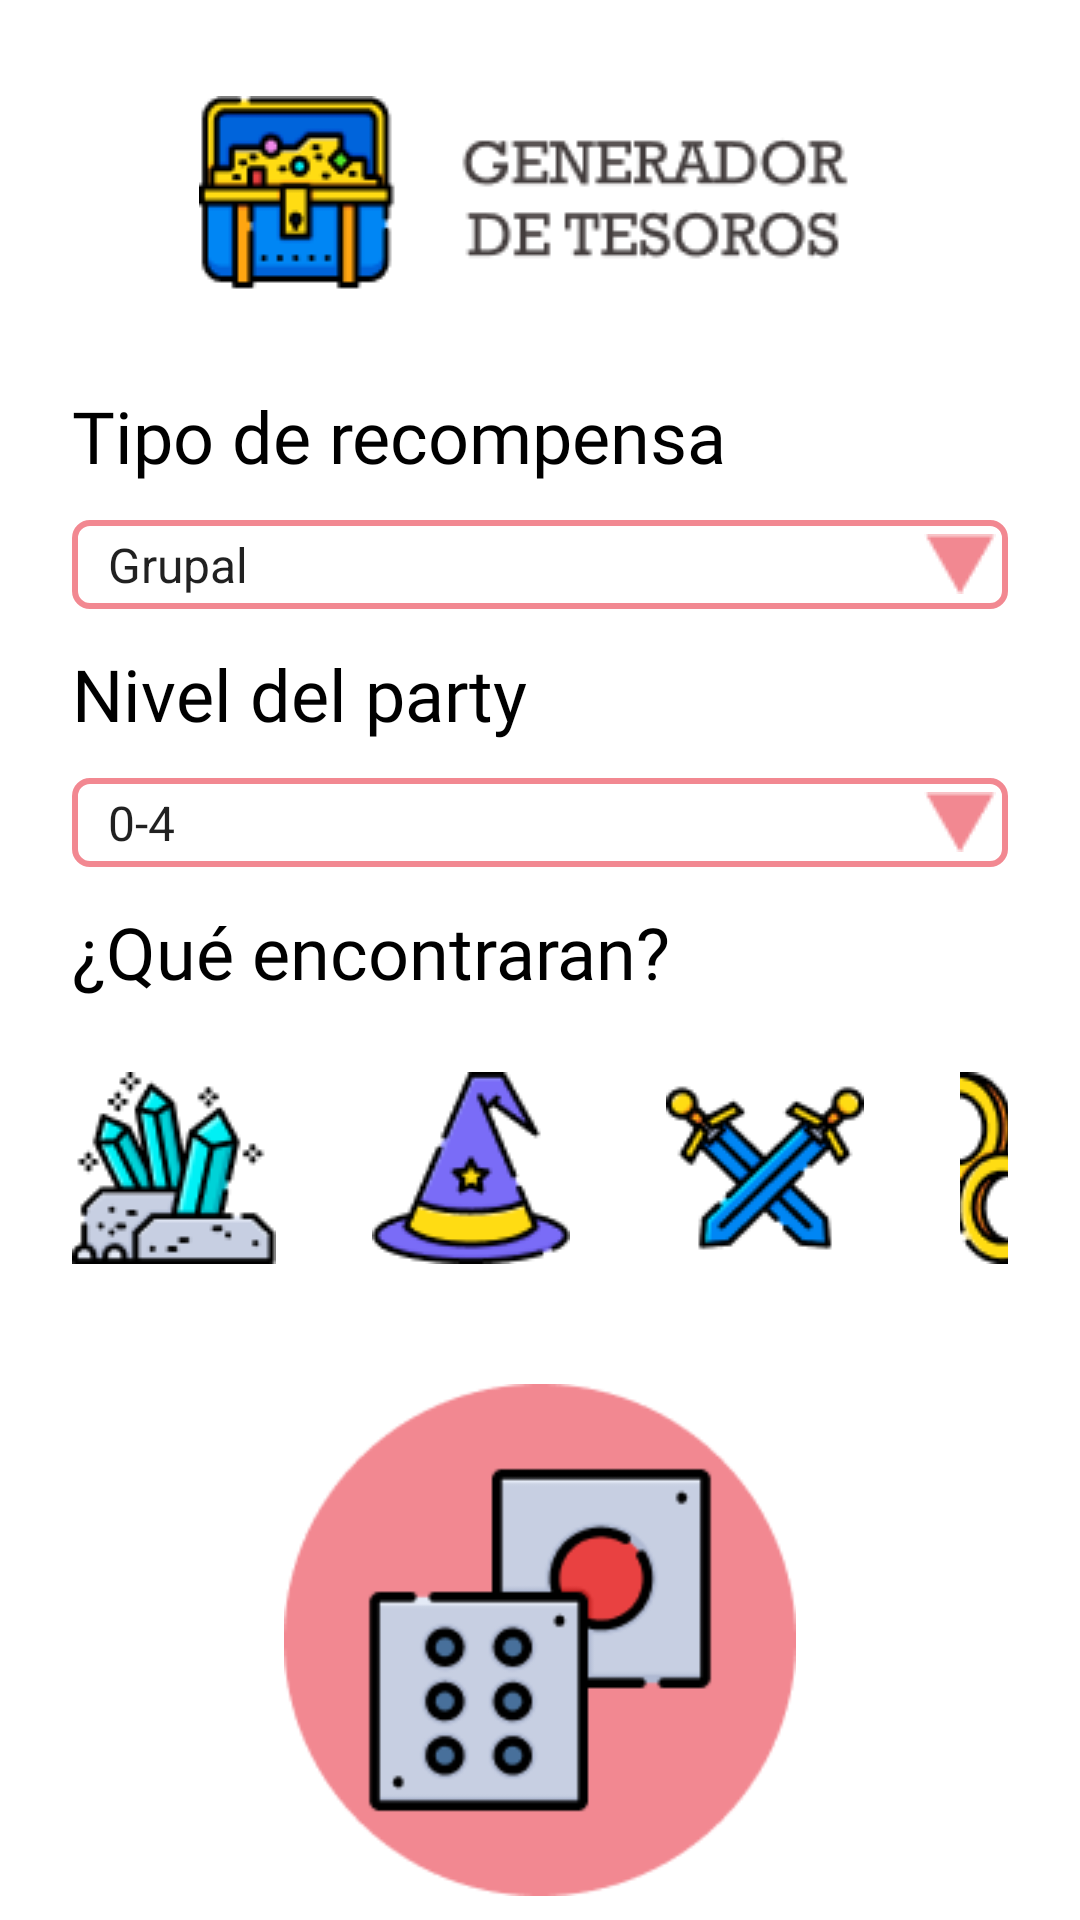

Locate icon controls on the screen. Image size 1080x1920, boxes as (x1, y1, x2, y2).
Diamante: (72, 1072, 276, 1264)
Espadas: (666, 1086, 864, 1250)
Objetos magicos: (372, 1072, 570, 1264)
